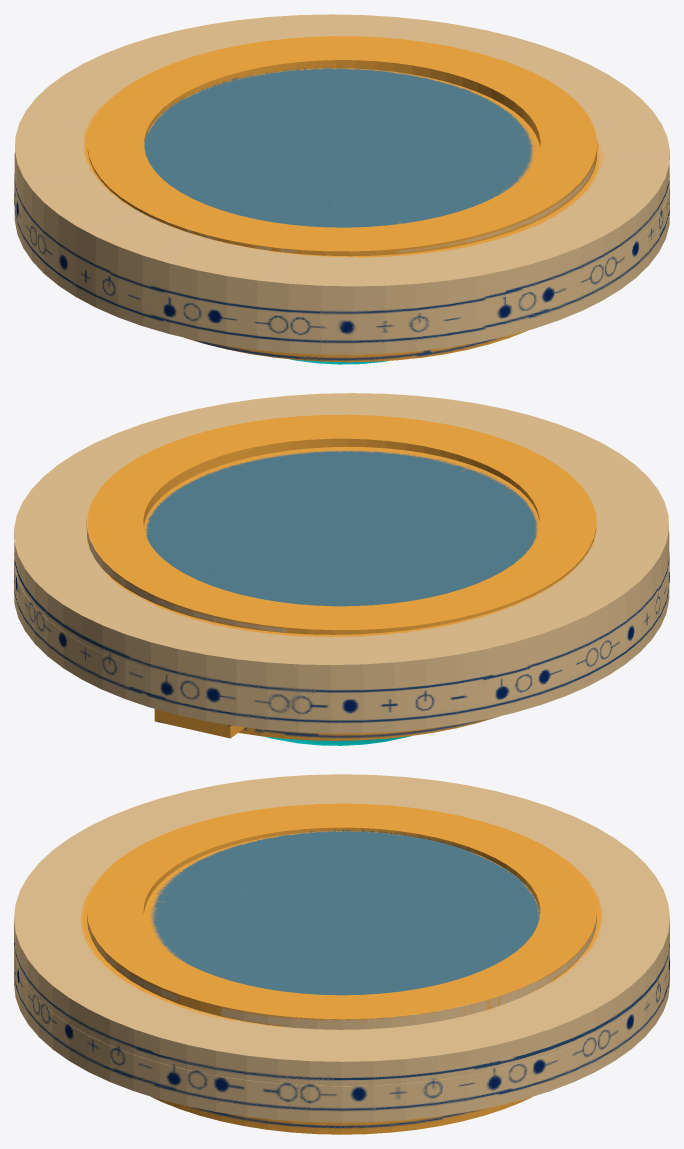
The model's file is Platform.fbx.
The picture shows the model from 3 angles, top to bottom: view 1: azimuth 30°, elevation 25°; view 2: azimuth 150°, elevation 25°; view 3: azimuth 270°, elevation 25°; orthographic projection.
Visible parts, largest first — view 1: node_id3; view 2: node_id3; view 3: node_id3.
Boxes of the visible parts, box(x1,y1,x2,y2) form: node_id3: box(14, 14, 669, 364); node_id3: box(14, 393, 669, 745); node_id3: box(14, 774, 669, 1134).
Bounding box in the file's own units: 0.512 × 0.1647 × 0.5113.
Materials: 1 (1 with a texture image).
